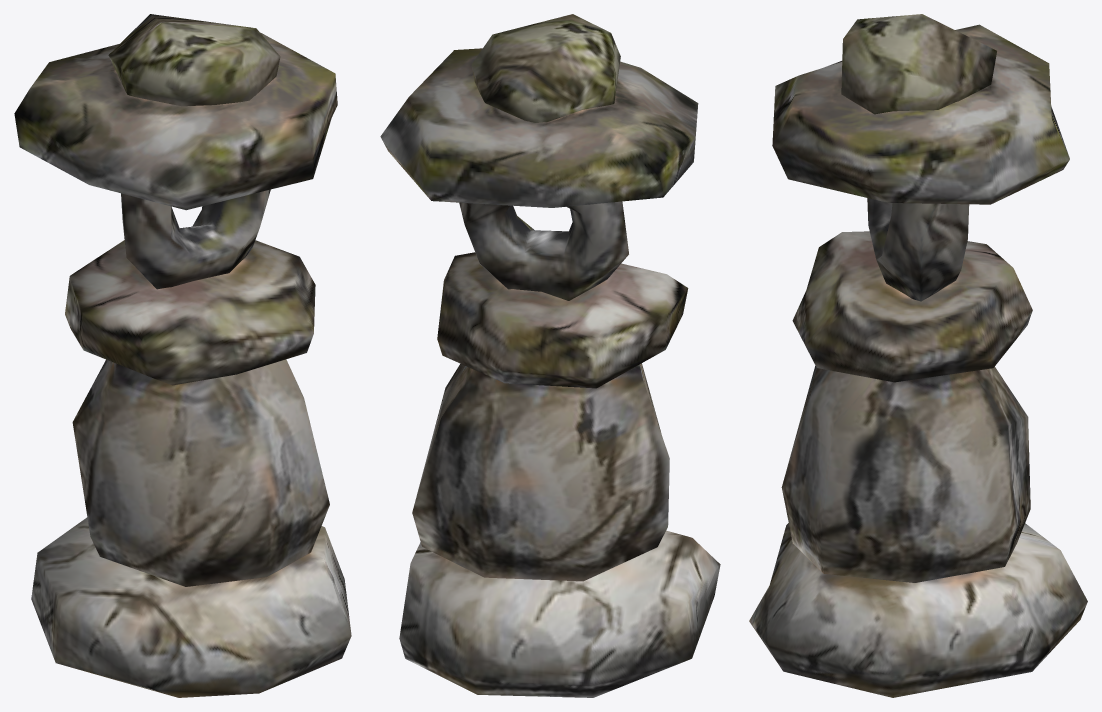
File: DEC_GravestoneB.FBX
3 renders of one model, left to right at view 1: azimuth 30°, elevation 25°; view 2: azimuth 150°, elevation 25°; view 3: azimuth 270°, elevation 25°, orthographic.
Parts seen in each view (by area): view 1: DEC_GravestoneB; view 2: DEC_GravestoneB; view 3: DEC_GravestoneB.
Part boxes in pixels (box(x1,y1,x2,y2)): DEC_GravestoneB: box(14, 14, 351, 697); DEC_GravestoneB: box(380, 14, 720, 697); DEC_GravestoneB: box(749, 14, 1087, 697).
Size of the model in its own units: 83.09 by 169 by 85.61.
